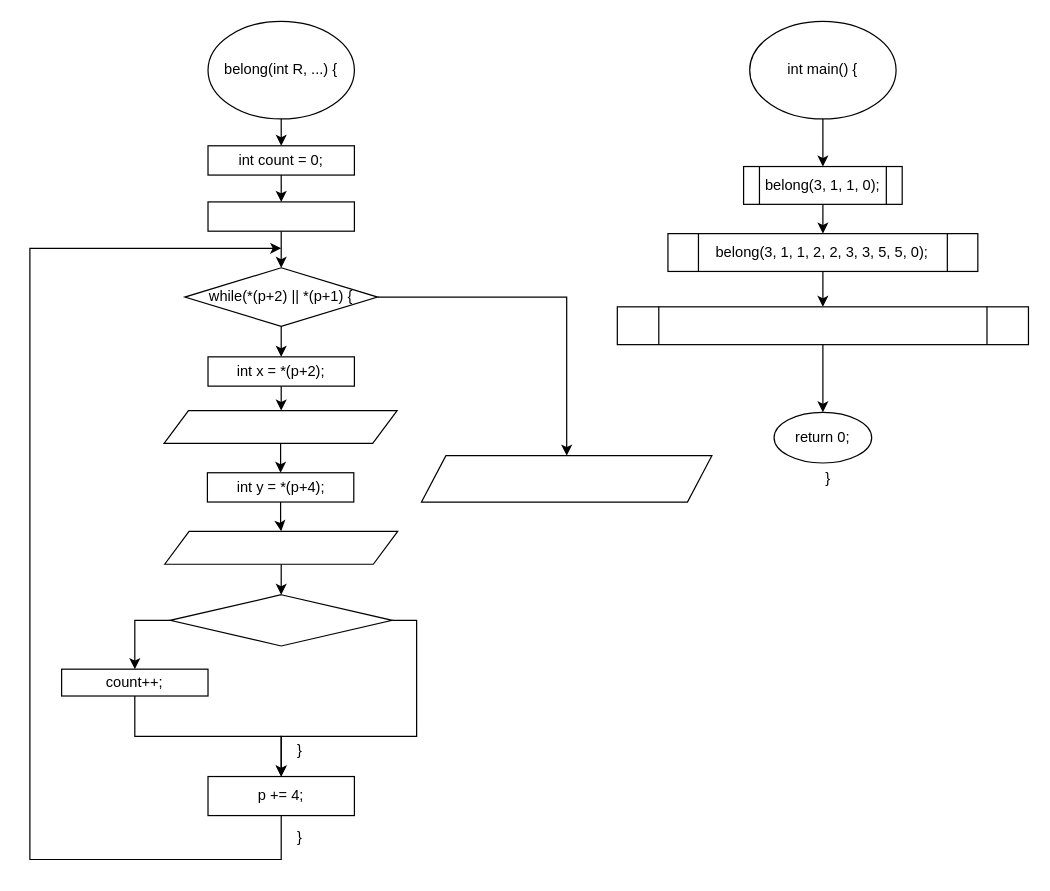
Image size: 1050x891. Some labels were removed from this diagram. Here are the shapes that lost their labels. From the top down, the centre of each, then its label:
the point at 280,216: int *p = &R;
the point at 822,325: belong(4, 1, 1, 4, 4, 2, 2, 3, 3, 10, 10, 0);
the point at 280,426: cout<<"x = "<<x<<endl;
the point at 566,478: cout<<"Количество точек, лежащих в окружности: " << count<<endl;
the point at 280,547: cout<<"y = "<<y<<endl;
the point at 280,620: if (x*x + y*y <= R*R) {
